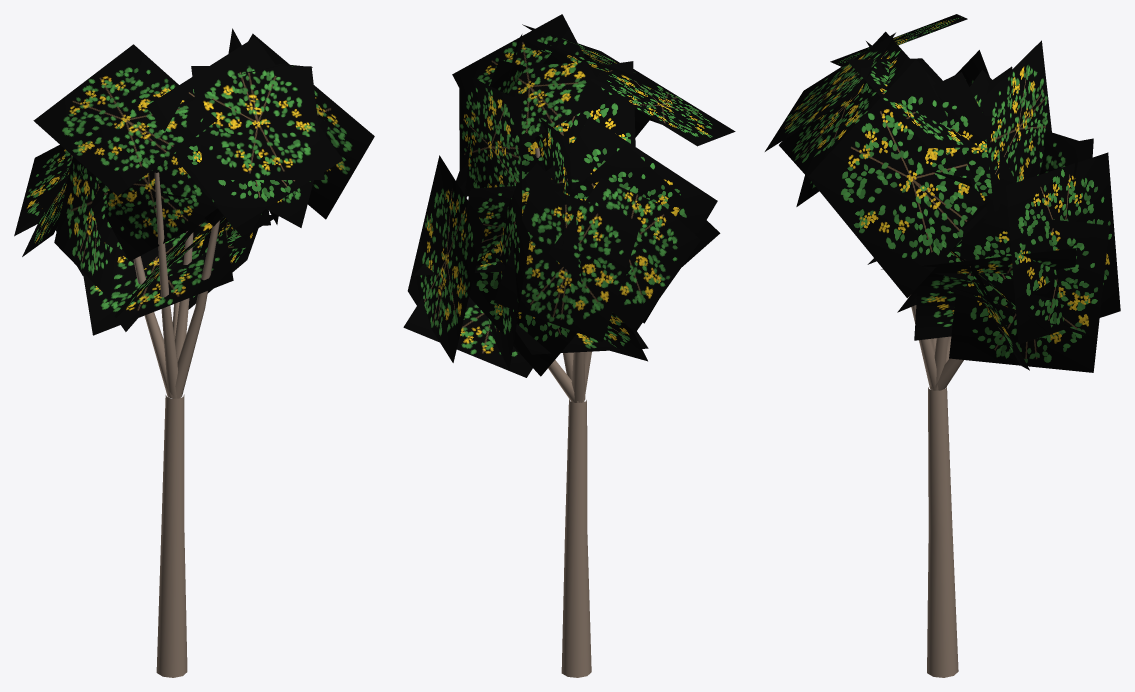
Rendered from paubrasilia-echinata.glb.
3 renders of one model, left to right at view 1: azimuth 30°, elevation 25°; view 2: azimuth 150°, elevation 25°; view 3: azimuth 270°, elevation 25°, orthographic. The views are drawn at different scales.
Parts seen in each view (by area): view 1: folhas, tronco; view 2: folhas, tronco; view 3: folhas, tronco.
Boxes of the visible parts, <box> form: folhas: <box>14,28,374,335</box>; tronco: <box>133,172,220,677</box>; folhas: <box>403,14,735,377</box>; tronco: <box>535,147,591,677</box>; folhas: <box>765,14,1120,372</box>; tronco: <box>909,295,963,677</box>.
Size of the model in its own units: 5.47 by 12 by 6.
2 materials, 1 textured.
